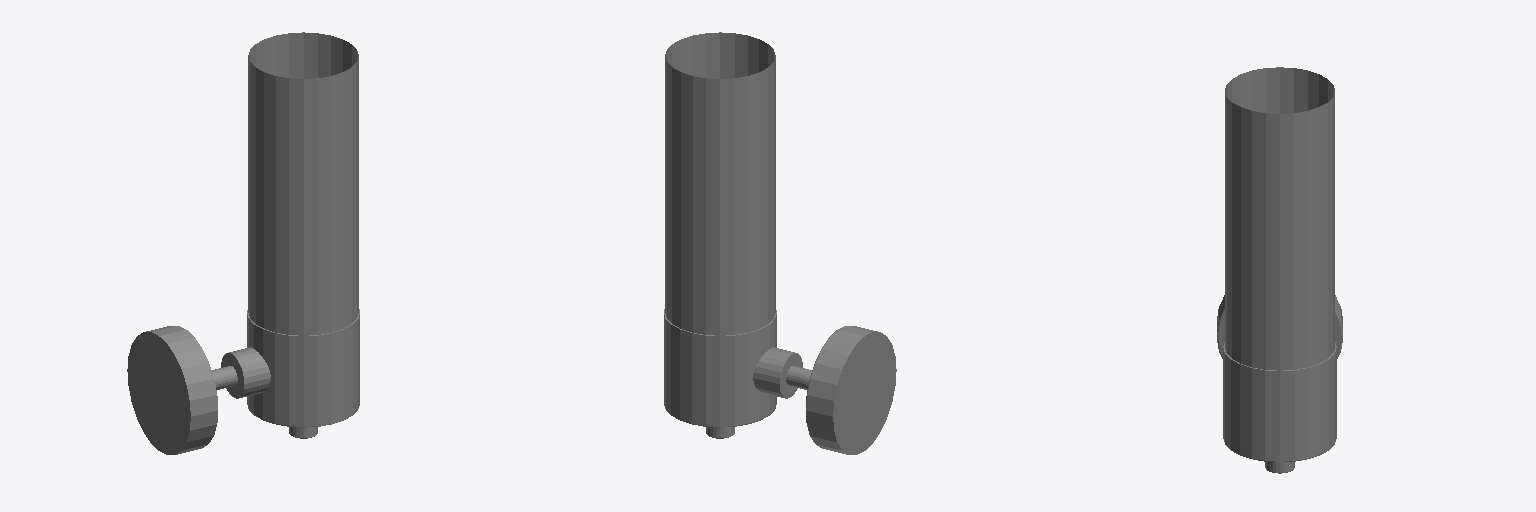
File: LamPared.obj
3 views of the same model, side by side, from view 1: azimuth 30°, elevation 25°; view 2: azimuth 150°, elevation 25°; view 3: azimuth 270°, elevation 25° (orthographic).
Parts seen in each view (by area): view 1: obj1; view 2: obj1; view 3: obj1.
Part boxes in pixels (x1,y1,x2,y2): obj1: (127, 32, 359, 454); obj1: (664, 32, 896, 454); obj1: (1217, 67, 1342, 473).
Size of the model in its own units: 0.1638 by 0.3048 by 0.093.